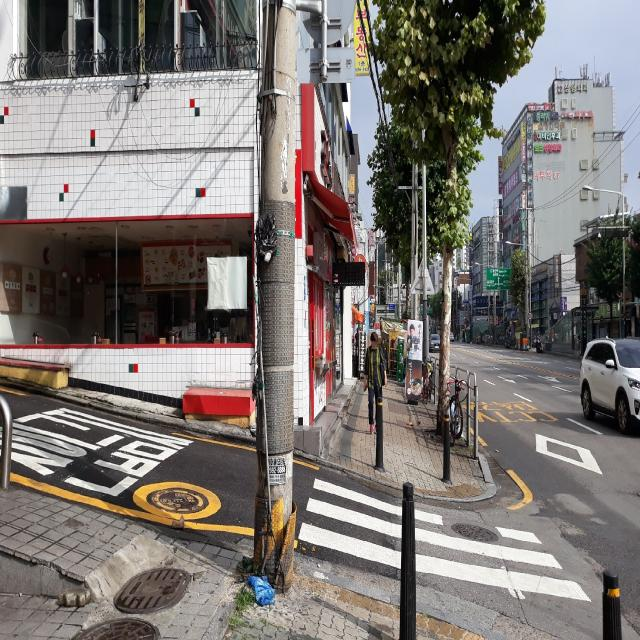횡단보도: (296, 474, 592, 606)
